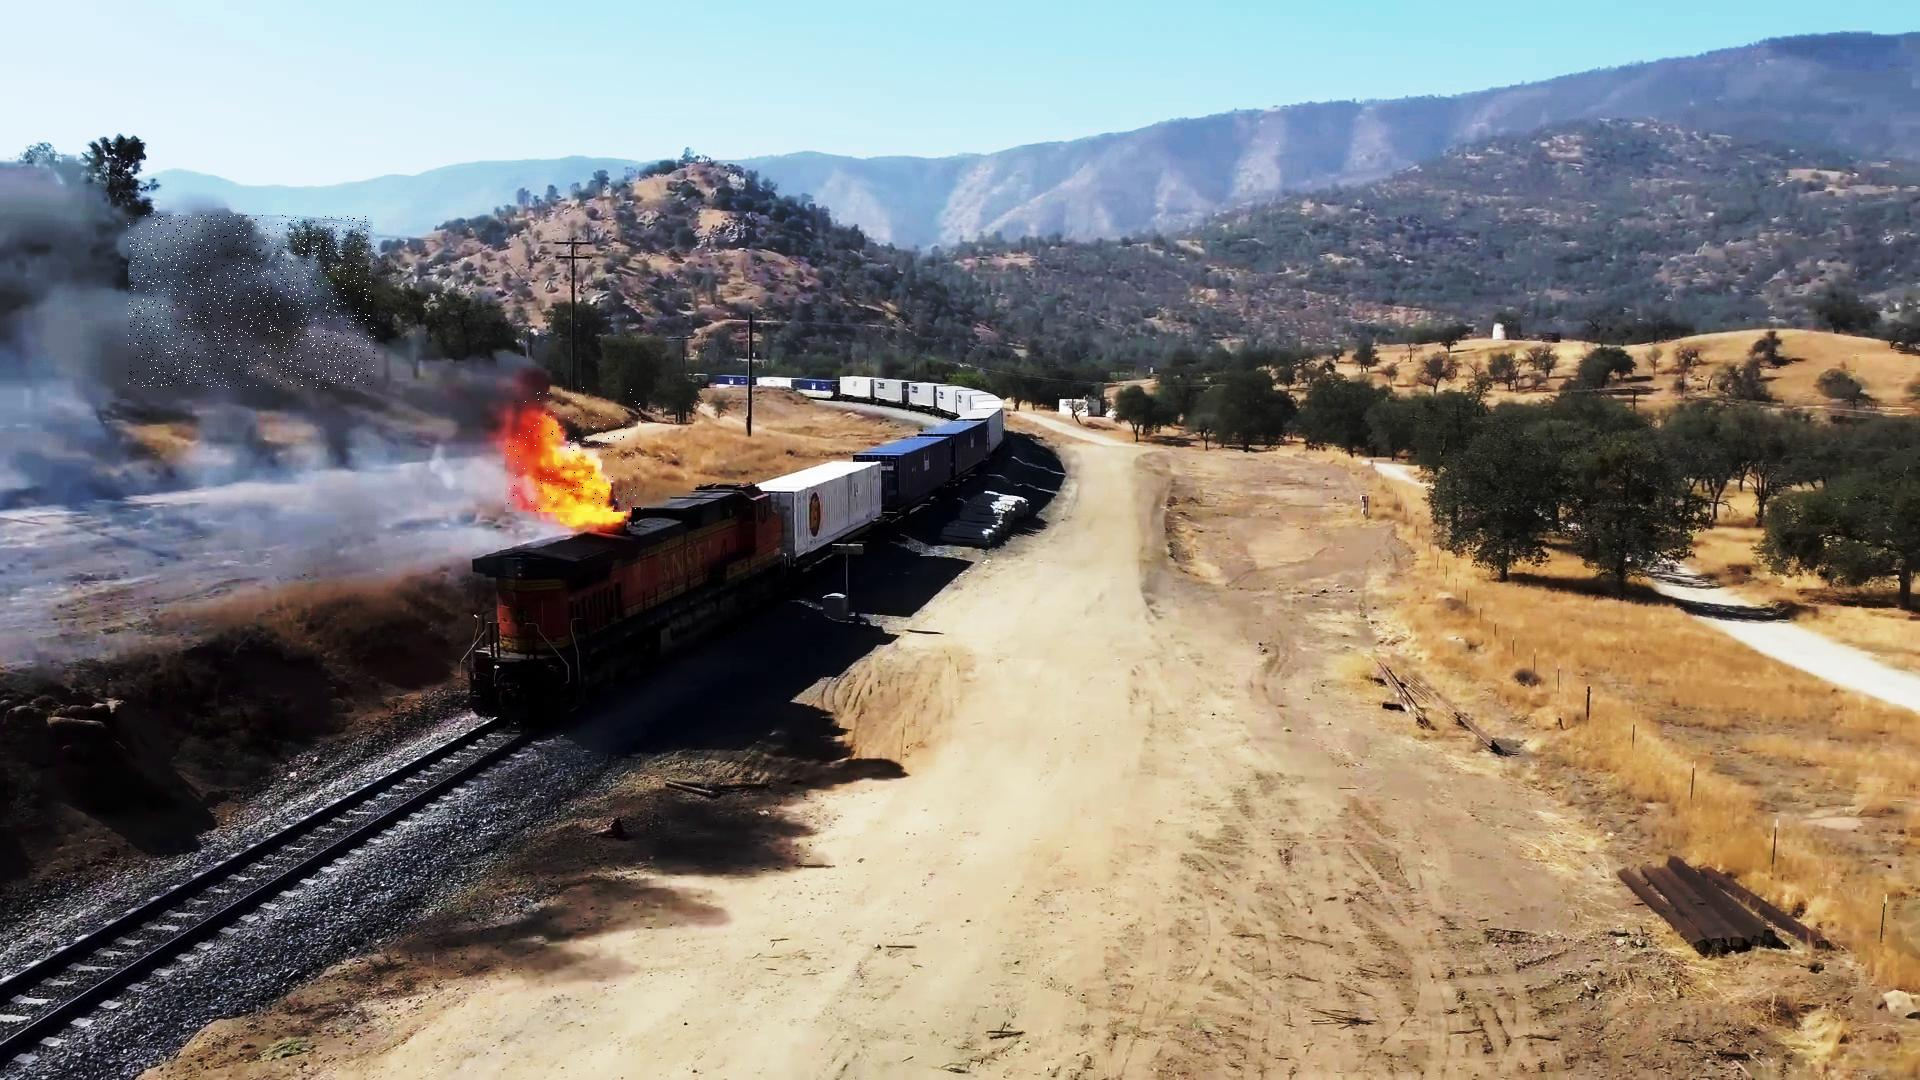fire: (505, 388, 641, 514)
smoke: (128, 215, 375, 389)
